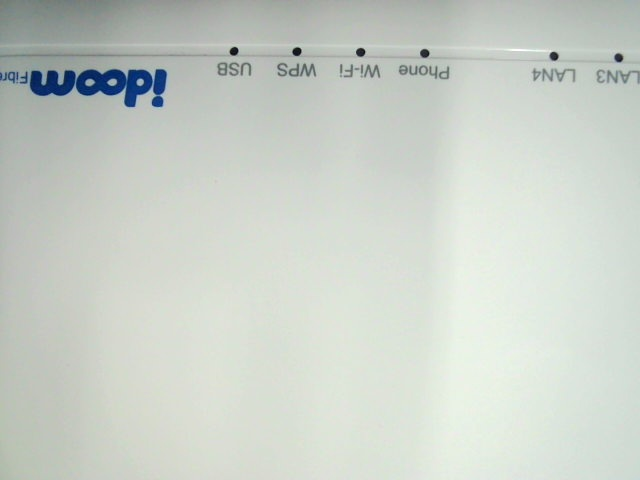BB_idoom: (2, 57, 169, 110)
